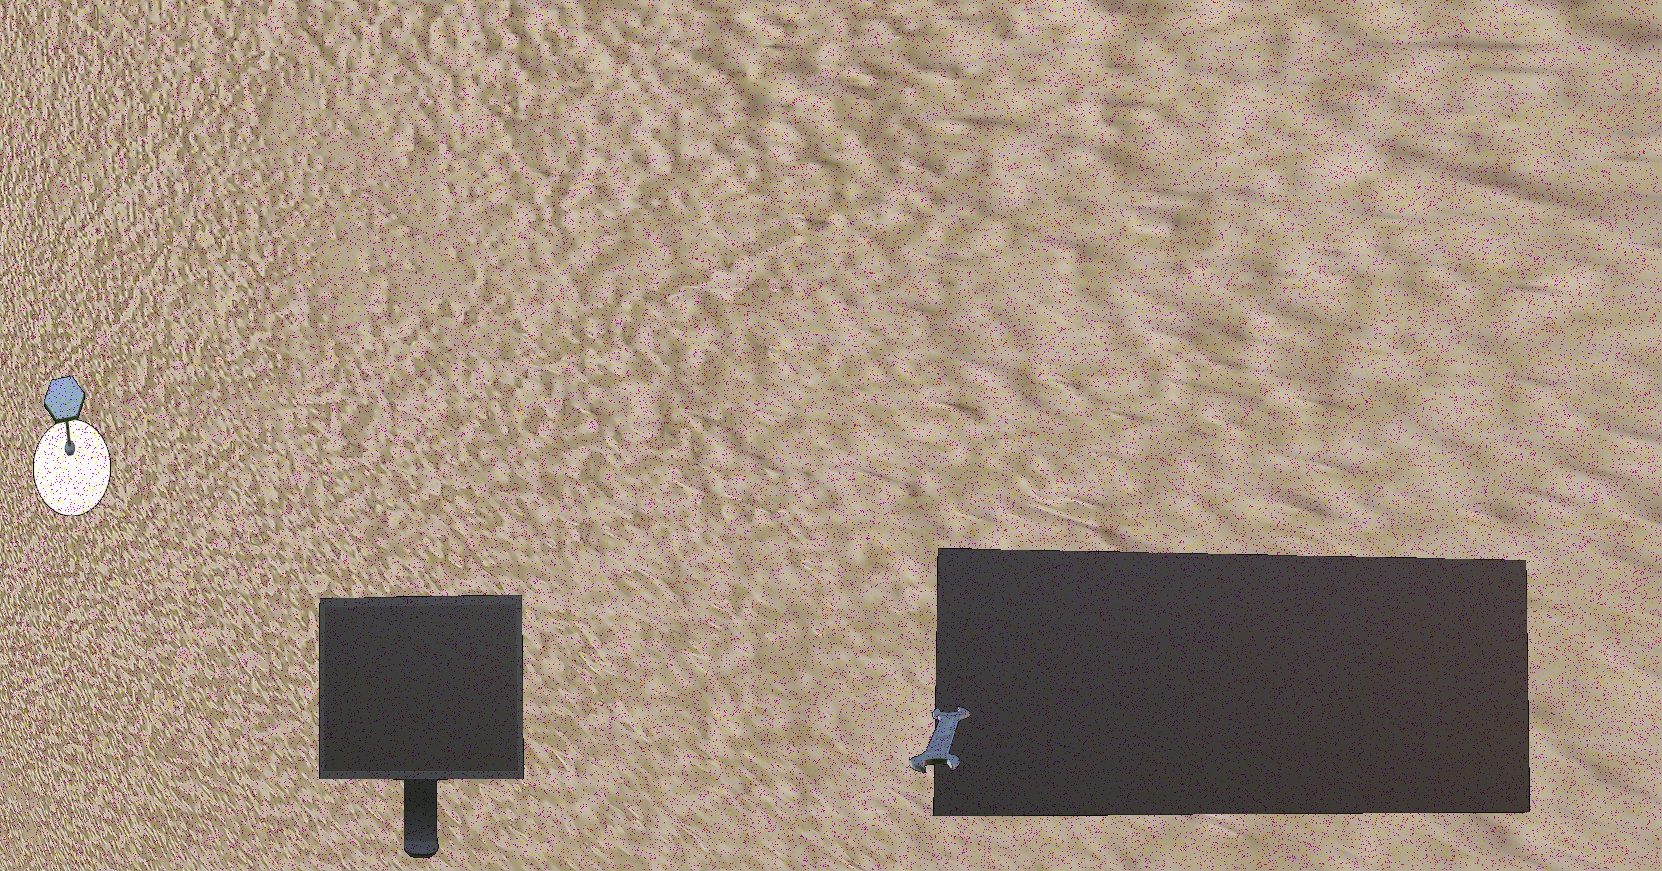llave: (908, 706, 971, 773)
luz: (33, 375, 111, 517)
monitor: (319, 594, 524, 859)
teclado: (933, 547, 1530, 817)
